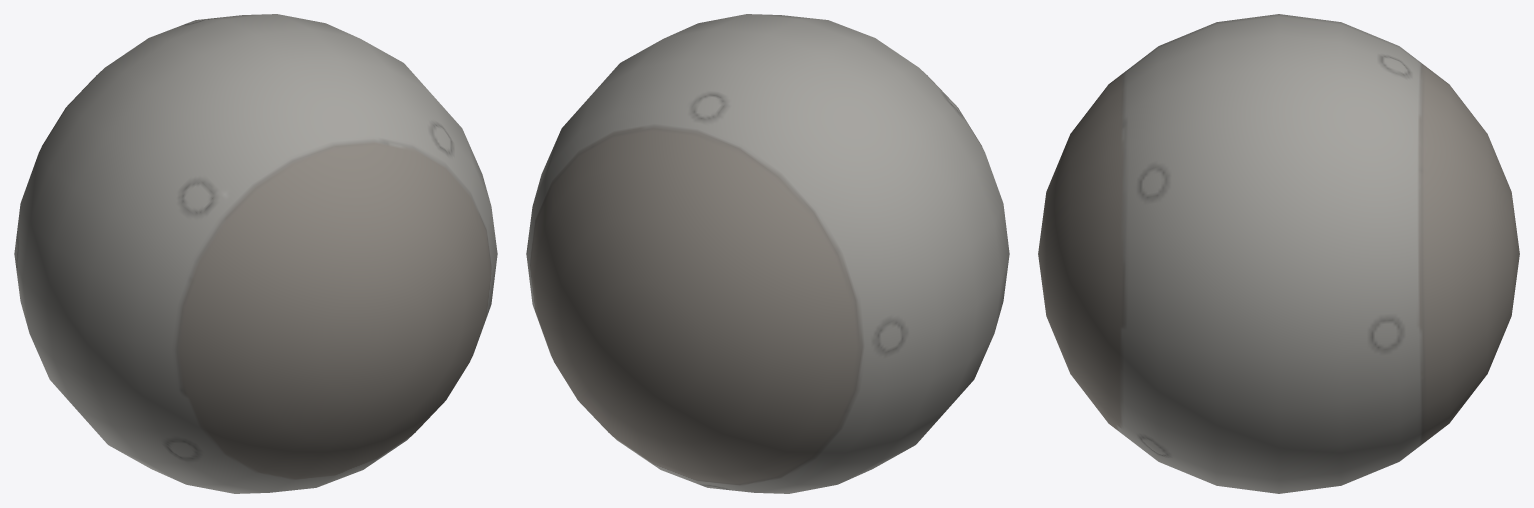
The model's file is ball-center.glb.
3 renders of one model, left to right at view 1: azimuth 30°, elevation 25°; view 2: azimuth 150°, elevation 25°; view 3: azimuth 270°, elevation 25°, orthographic.
Visible parts, largest first — view 1: polySurface2; view 2: polySurface2; view 3: polySurface2.
Part boxes in pixels (x1,y1,x2,y2): polySurface2: [14, 14, 497, 493]; polySurface2: [526, 14, 1009, 493]; polySurface2: [1038, 14, 1519, 493].
Bounding box in the file's own units: 0.3121 × 0.3121 × 0.3121.
1 material, 1 textured.
